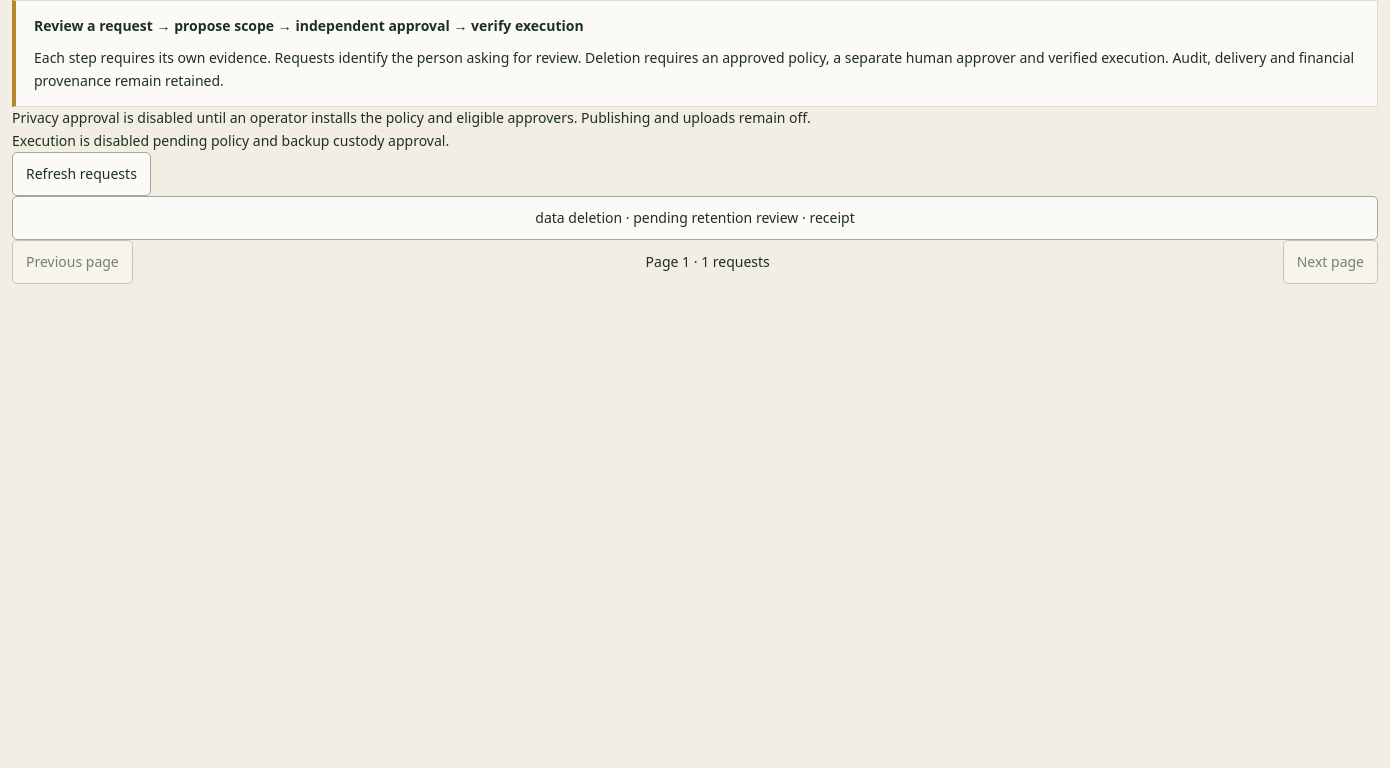
it: completed scope leaves overall request pending
Click the button "data deletion · pending retention review · receipt" at {"x": 695, "y": 218}, box [12,196,1378,240]
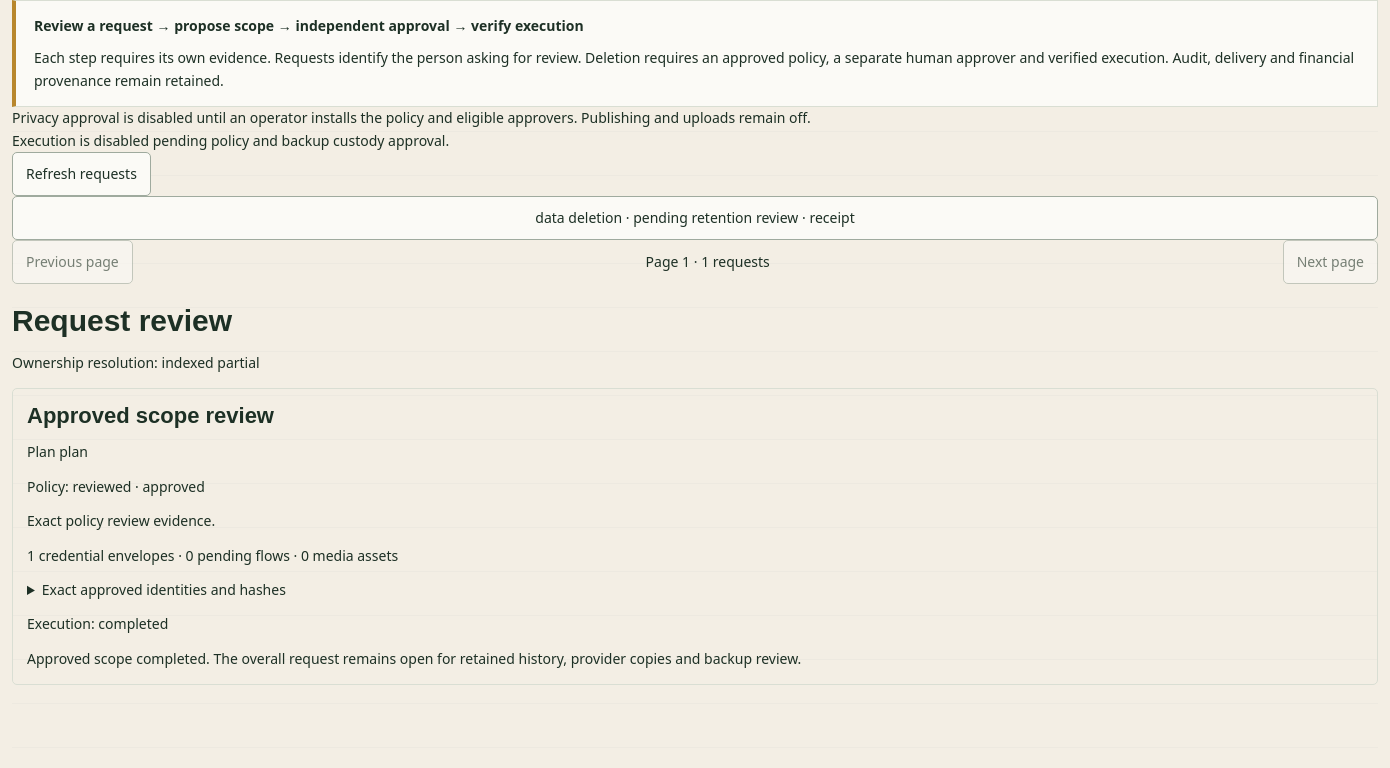
Expected: the text "overall request remains open" is shown, [27,649,801,668]
